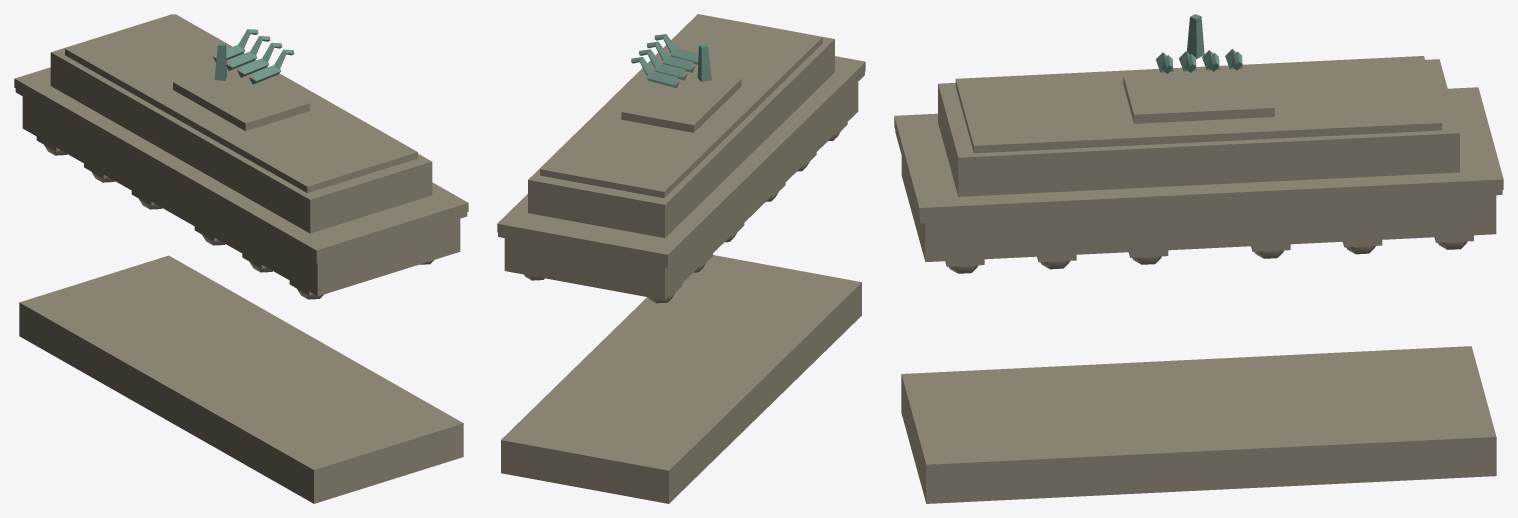
The model's file is brandenburg_gate-r3-lod2.glb.
The picture shows the model from 3 angles, left to right: view 1: azimuth 30°, elevation 25°; view 2: azimuth 150°, elevation 25°; view 3: azimuth 270°, elevation 25°; orthographic projection. The views are drawn at different scales.
Visible parts, largest first — view 1: Elbe sandstone, Copper, verdigris patina; view 2: Elbe sandstone, Copper, verdigris patina; view 3: Elbe sandstone, Copper, verdigris patina.
Part boxes in pixels (x1=…): Elbe sandstone: x1=14, y1=14, x2=468, y2=503; Copper, verdigris patina: x1=213, y1=29, x2=294, y2=84; Elbe sandstone: x1=497, y1=14, x2=865, y2=503; Copper, verdigris patina: x1=631, y1=34, x2=711, y2=88; Elbe sandstone: x1=894, y1=56, x2=1503, y2=503; Copper, verdigris patina: x1=1155, y1=14, x2=1243, y2=73.
Bounding box in the file's own units: 17.18 × 27.61 × 36.63.
